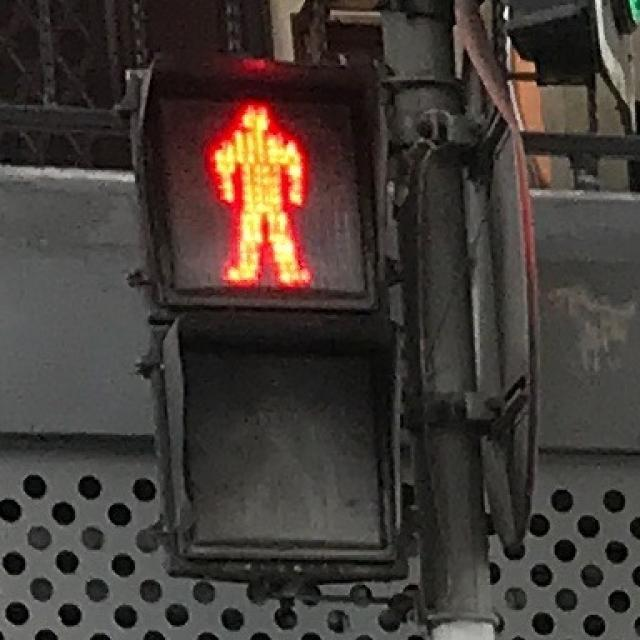red_light: (198, 98, 330, 282)
